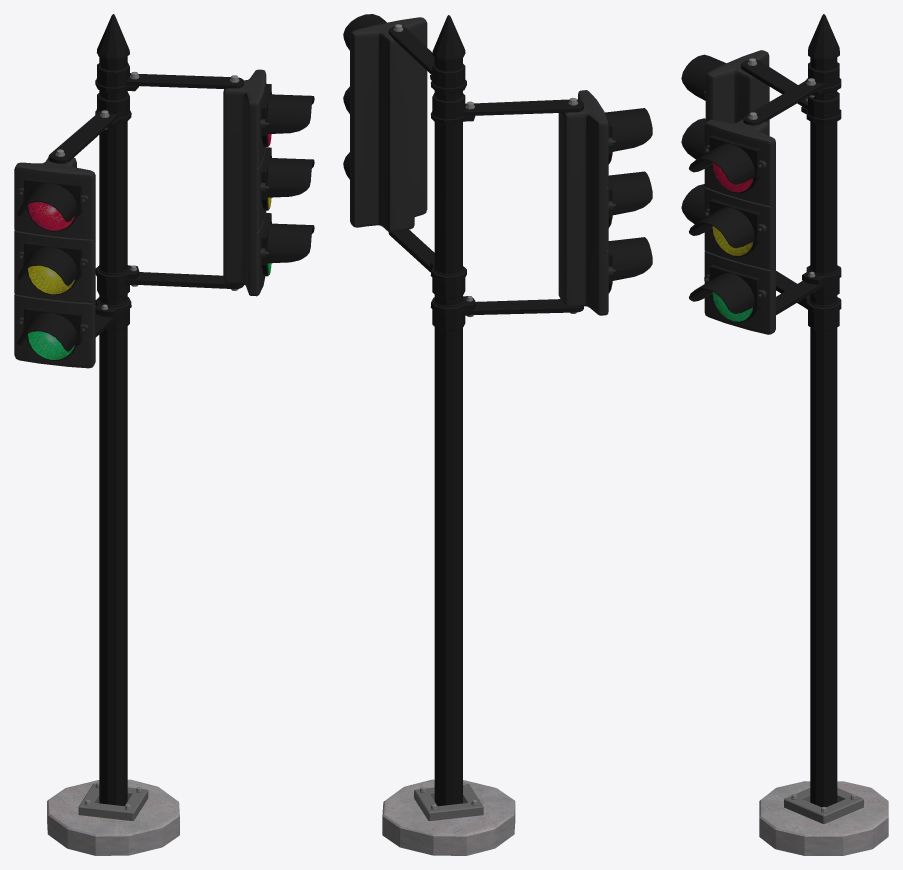
Rendered from traffic_lights.glb.
3 views of the same model, side by side, from view 1: azimuth 30°, elevation 25°; view 2: azimuth 150°, elevation 25°; view 3: azimuth 270°, elevation 25° (orthographic).
Visible parts, largest first — view 1: traffic_lights_all_combined_uvs_mesh_combine_result_trafficl (×4); view 2: traffic_lights_all_combined_uvs_mesh_combine_result_trafficl (×4); view 3: traffic_lights_all_combined_uvs_mesh_combine_result_trafficl (×4).
Boxes of the visible parts, <box> form: traffic_lights_all_combined_uvs_mesh_combine_result_trafficl (×4): <box>14,14,314,855</box>; traffic_lights_all_combined_uvs_mesh_combine_result_trafficl (×4): <box>343,14,652,855</box>; traffic_lights_all_combined_uvs_mesh_combine_result_trafficl (×4): <box>681,14,888,855</box>.
Size of the model in its own units: 6.1 by 15.65 by 3.61.
Materials: 5 (3 with a texture image).
